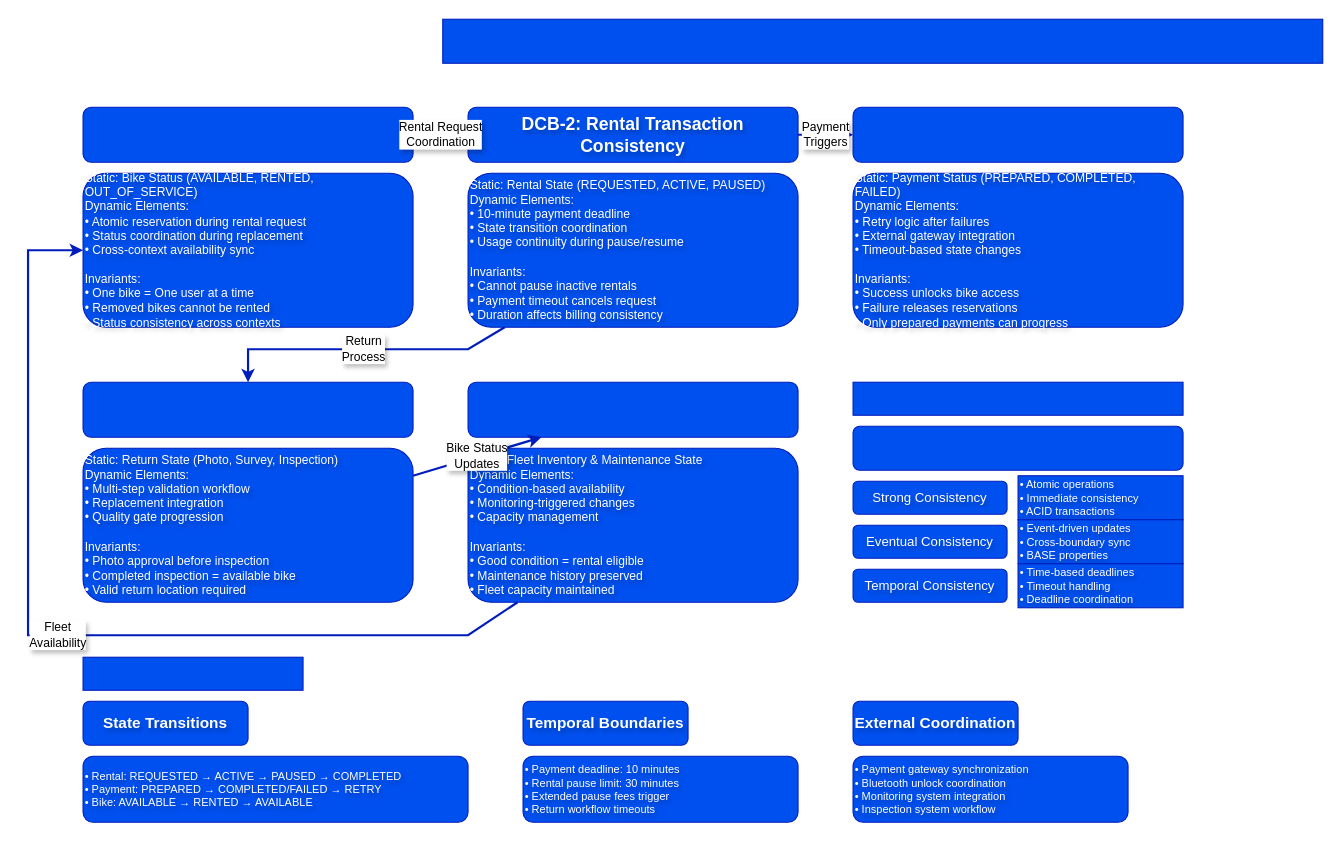
Some shapes in this 1342 by 842 pixel diagram are drawn without their labels. Here are the shapes that lost their labels. From the top down, the centre of each, then its label:
At (882,40): "Jupiter Wheels - Dynamic Consistency Boundaries".
At (247,134): "DCB-1: Bike Availability Consistency".
At (1017,134): "DCB-3: Payment Processing Consistency".
At (247,409): "DCB-4: Return Workflow Consistency".
At (632,409): "DCB-5: Fleet Operations Consistency".
At (1017,398): "CONSISTENCY INTERACTIONS".
At (1017,447): "CONSISTENCY LEVELS".
At (192,673): "DYNAMIC ASPECTS".
